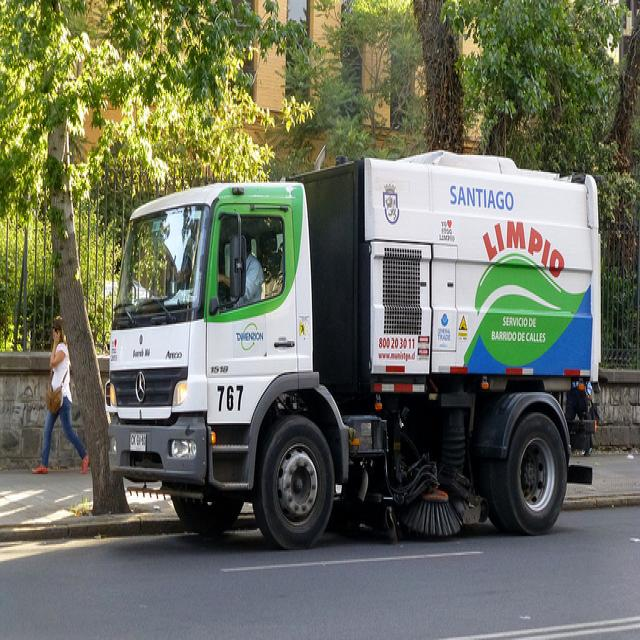Vehicle: (104, 150, 605, 550)
